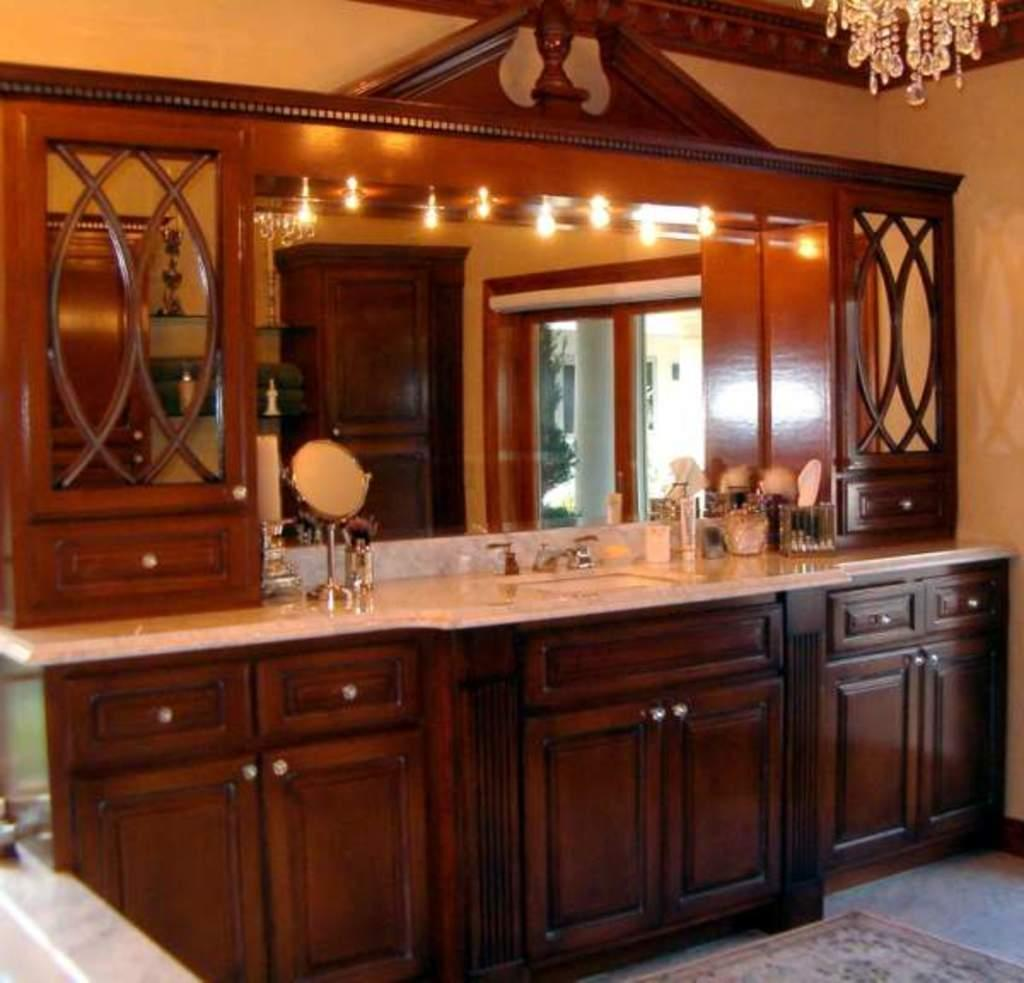cabinet_door: (26, 120, 246, 502), (109, 771, 260, 968), (262, 756, 418, 944), (542, 708, 660, 948), (850, 194, 944, 451), (670, 689, 770, 918), (838, 650, 926, 848), (39, 512, 236, 599), (254, 658, 424, 726), (928, 629, 990, 815), (90, 686, 256, 754), (856, 475, 934, 526), (834, 590, 920, 632), (930, 571, 1004, 617)
handle: (638, 694, 670, 730), (138, 550, 168, 579), (146, 702, 176, 730), (264, 754, 290, 786), (908, 642, 930, 674), (672, 698, 694, 729), (338, 680, 360, 707), (242, 758, 262, 786), (226, 478, 246, 505), (876, 605, 894, 631), (962, 590, 980, 614), (899, 493, 915, 516), (925, 648, 943, 667)
